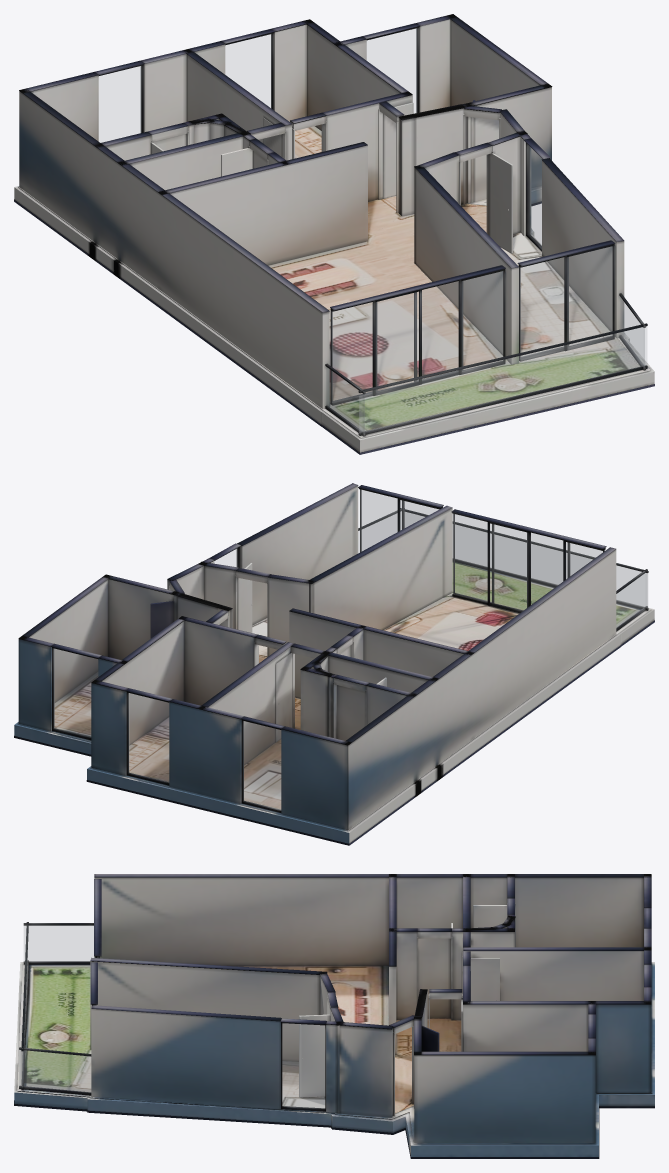
3 views of the same model, one above another, from view 1: azimuth 30°, elevation 25°; view 2: azimuth 150°, elevation 25°; view 3: azimuth 270°, elevation 25° (orthographic). The views are drawn at different scales.
Parts seen in each view (by area): view 1: plan, glass4_m, railg1_m, glass5_m, glass0_m, glass1_m, glass2_m, railg2_m, glass3_m, railg0_m; view 2: plan, glass4_m, railg1_m, glass1_m, glass2_m, glass0_m, glass5_m, railg2_m, railg0_m; view 3: plan, glass3_m, railg0_m, railg2_m.
Boxes of the visible parts, left/top/right/bottom form: plan: left=14, top=14, right=654, bottom=454; glass4_m: left=332, top=271, right=502, bottom=402; railg1_m: left=359, top=326, right=646, bottom=432; glass5_m: left=520, top=246, right=612, bottom=358; glass0_m: left=99, top=66, right=141, bottom=142; glass1_m: left=225, top=34, right=271, bottom=108; glass2_m: left=367, top=28, right=417, bottom=113; railg2_m: left=326, top=367, right=364, bottom=433; glass3_m: left=528, top=145, right=541, bottom=247; railg0_m: left=620, top=297, right=644, bottom=367; plan: left=14, top=483, right=654, bottom=845; glass4_m: left=453, top=514, right=602, bottom=610; railg1_m: left=405, top=512, right=647, bottom=607; glass1_m: left=128, top=693, right=168, bottom=782; glass2_m: left=54, top=649, right=97, bottom=737; glass0_m: left=243, top=721, right=280, bottom=809; glass5_m: left=360, top=489, right=438, bottom=551; railg2_m: left=616, top=573, right=646, bottom=627; railg0_m: left=358, top=512, right=401, bottom=552; plan: left=14, top=874, right=654, bottom=1158; glass3_m: left=282, top=1023, right=324, bottom=1108; railg0_m: left=19, top=1050, right=90, bottom=1092; railg2_m: left=24, top=926, right=93, bottom=961.
Size of the model in its own units: 10.06 by 2.62 by 14.83.
Materials: 2 (1 with a texture image).
